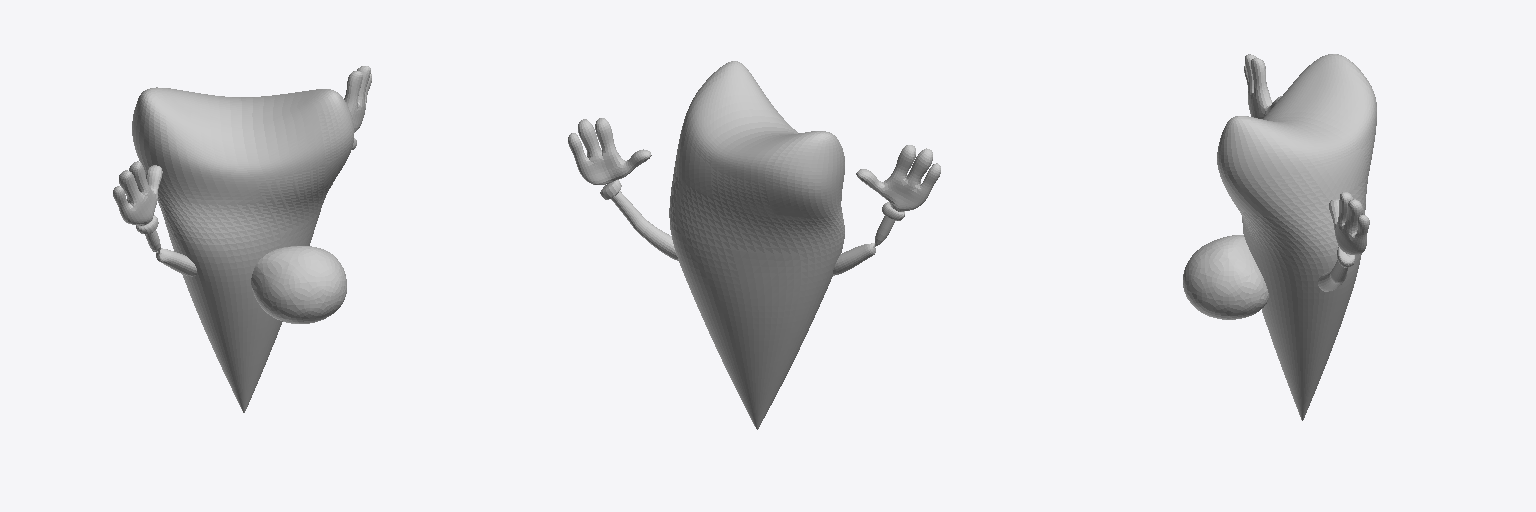
The model's file is java-duke11.obj.
3 views of the same model, side by side, from view 1: azimuth 30°, elevation 25°; view 2: azimuth 150°, elevation 25°; view 3: azimuth 270°, elevation 25° (orthographic).
Visible parts, largest first — view 1: javadude, javadude_nase, javadude_hands; view 2: javadude, javadude_hands; view 3: javadude, javadude_nase, javadude_hands.
Boxes of the visible parts, x1=… form: javadude: x1=132, y1=87, x2=354, y2=412; javadude_nase: x1=251, y1=246, x2=346, y2=323; javadude_hands: x1=113, y1=66, x2=371, y2=276; javadude: x1=669, y1=61, x2=844, y2=429; javadude_hands: x1=568, y1=118, x2=940, y2=275; javadude: x1=1217, y1=54, x2=1376, y2=420; javadude_nase: x1=1183, y1=235, x2=1268, y2=319; javadude_hands: x1=1244, y1=54, x2=1369, y2=291.
Bounding box in the file's own units: 3.92 × 3.94 × 2.1.